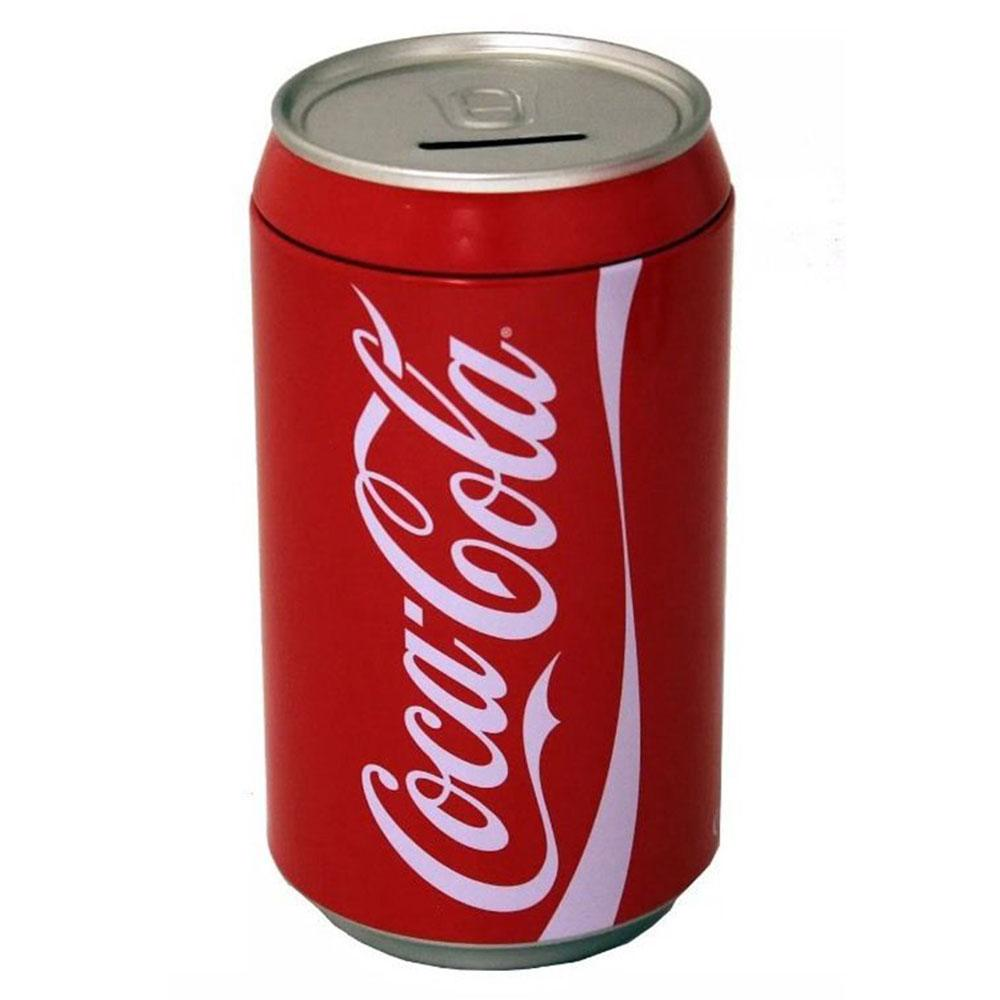coca_cola_can: (258, 27, 729, 971)
